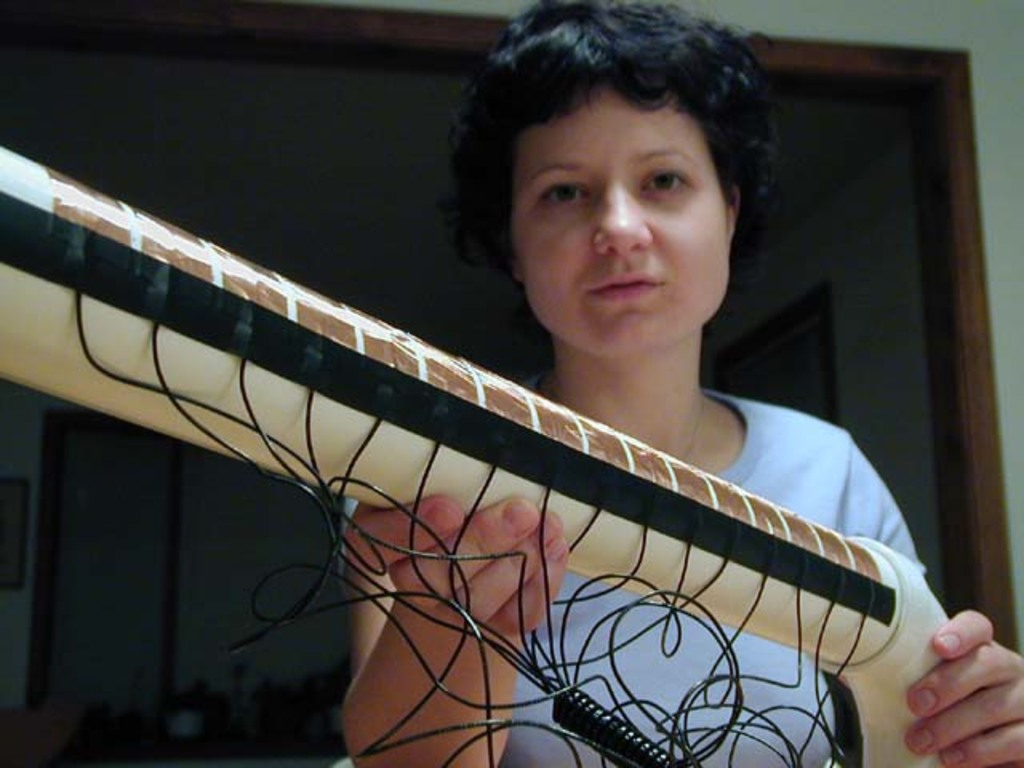face: (509, 90, 730, 350)
